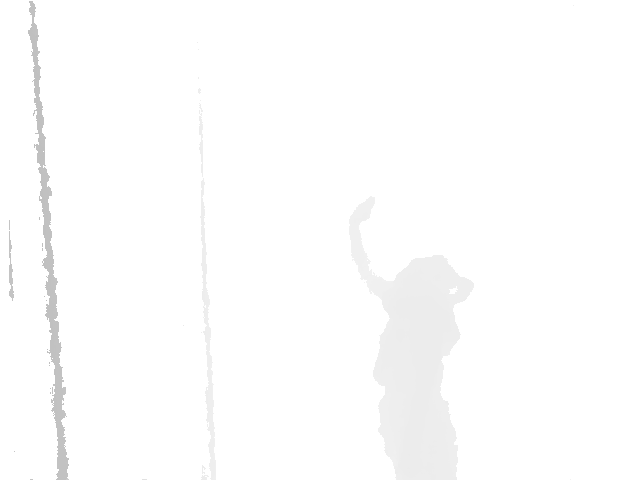hand: (345, 194, 375, 225)
head: (390, 254, 475, 315)
person: (343, 193, 474, 479)
